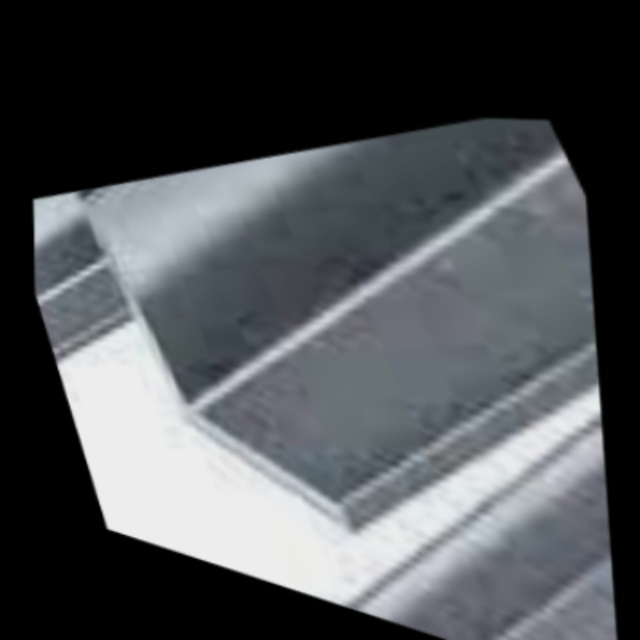Angle: (83, 163, 341, 551)
